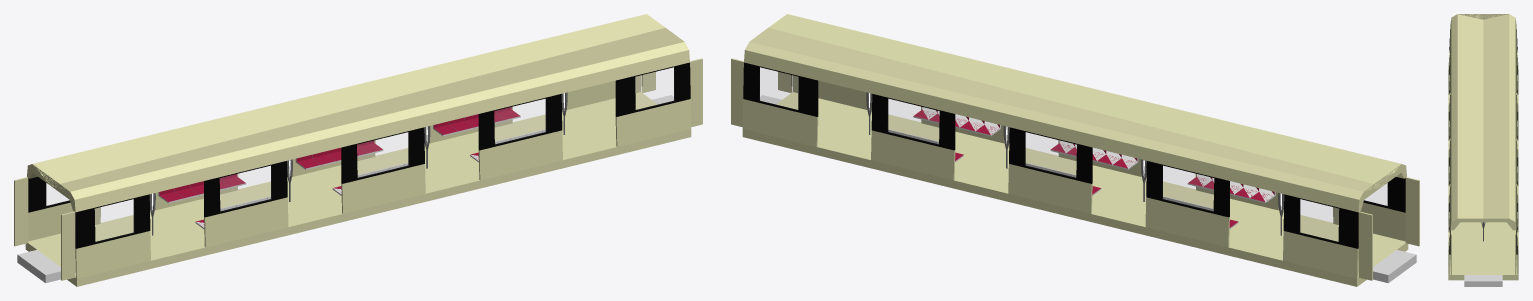
File: Seats.fbx
The picture shows the model from 3 angles, left to right: view 1: azimuth 30°, elevation 25°; view 2: azimuth 150°, elevation 25°; view 3: azimuth 270°, elevation 25°; orthographic projection. The views are drawn at different scales.
Visible parts, largest first — view 1: Cube, Seats, Accordion Floor, Hand-Holds; view 2: Cube, Seats, Accordion Floor, Hand-Holds; view 3: Cube, Accordion Floor.001.
Part boxes in pixels (x1,y1,x2,y2): Cube: (14,14,702,286); Seats: (158,107,545,228); Accordion Floor: (17,250,60,283); Hand-Holds: (149,92,567,235); Cube: (731,14,1419,286); Seats: (888,107,1275,228); Accordion Floor: (1373,250,1416,283); Hand-Holds: (866,92,1284,235); Cube: (1448,14,1518,280); Accordion Floor.001: (1464,275,1502,286).
Bounding box in the file's own units: 2015 × 267 × 274.
